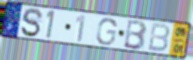1: (45, 10, 56, 41), (75, 15, 87, 43)
B: (122, 19, 149, 51), (147, 22, 171, 54)
G: (95, 17, 118, 47)
S: (20, 7, 45, 39)
